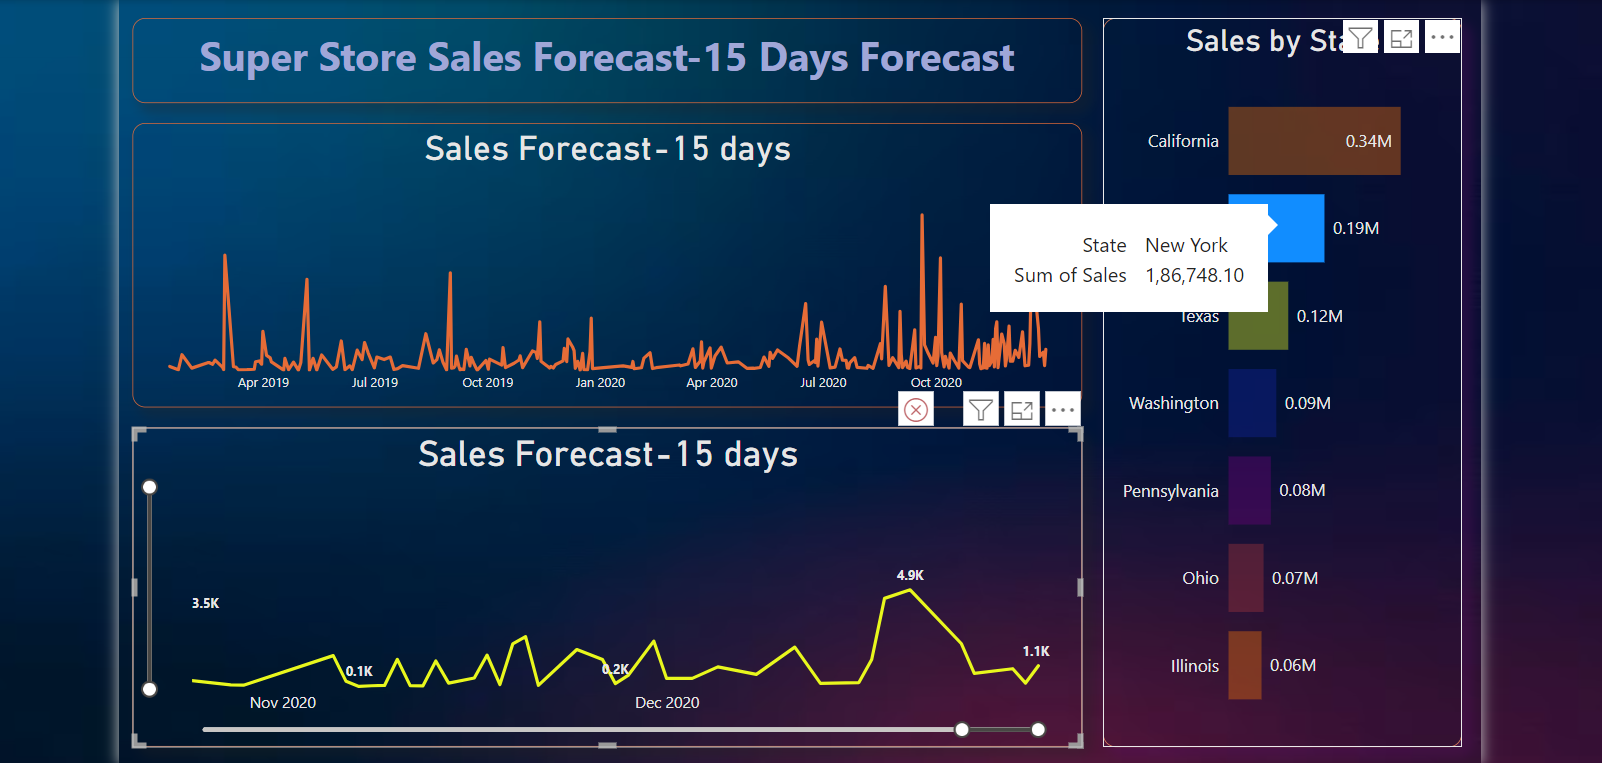

This screenshot's page, from the dashboard's own definition file:
{"tool":"powerbi","page":{"name":"Page 2","canvas":[1280,720],"ordinal":1},"visuals":[{"type":"lineChart","title":"Sales Forecast-15 days","fields":{"Y":["Sum(SuperStore_Sales_Dataset.Sales)"],"Category":["SuperStore_Sales_Dataset.Order Date.Variation.Date Hierarchy.Year","SuperStore_Sales_Dataset.Order Date.Variation.Date Hierarchy.Quarter","SuperStore_Sales_Dataset.Order Date.Variation.Date Hierarchy.Month","SuperStore_Sales_Dataset.Order Date.Variation.Date Hierarchy.Day"]},"box":[12.5,115,892.5,267.5],"z":0},{"type":"lineChart","title":"Sales Forecast-15 days","fields":{"Y":["Sum(SuperStore_Sales_Dataset.Sales)"],"Category":["SuperStore_Sales_Dataset.Order Date"]},"box":[12.5,402.5,892.5,300],"z":1000},{"type":"clusteredBarChart","title":"Sales by  State","fields":{"Y":["Sum(SuperStore_Sales_Dataset.Sales)"],"Category":["SuperStore_Sales_Dataset.State"]},"box":[925,17.5,337.5,685],"z":1001},{"type":"textbox","box":[12.5,17.5,892.5,80],"z":1002}]}

Visuals, with their boxes on the page's 1280x720 design canvas (x1, y1, x2, y2). These are canvas units, not pixel positions in the 1602x763 screenshot, which may show the page scaled, cropped or inside an application window:
"Sales Forecast-15 days" lineChart: locate(12, 115, 905, 382)
"Sales Forecast-15 days" lineChart: locate(12, 402, 905, 702)
"Sales by  State" clusteredBarChart: locate(925, 18, 1262, 702)
textbox: locate(12, 18, 905, 98)
